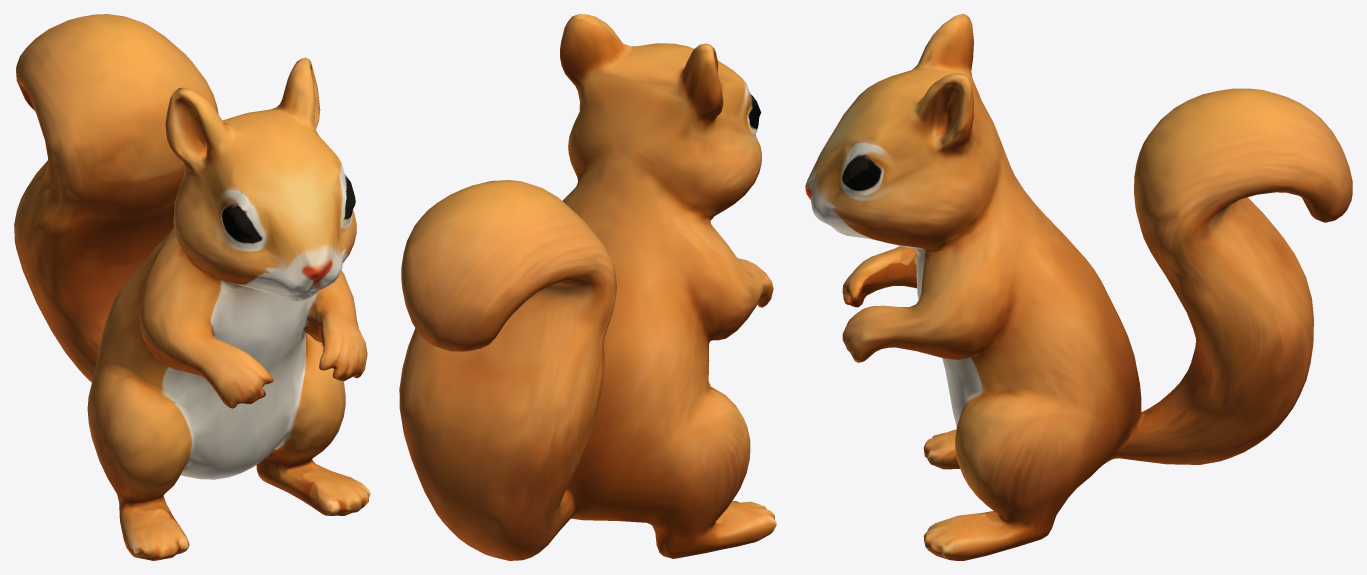
The picture shows the model from 3 angles, left to right: view 1: azimuth 30°, elevation 25°; view 2: azimuth 150°, elevation 25°; view 3: azimuth 270°, elevation 25°; orthographic projection. The views are drawn at different scales.
Visible parts, largest first — view 1: model_LOD2; view 2: model_LOD2; view 3: model_LOD2.
Boxes of the visible parts, box(x1,y1,x2,y2) form: model_LOD2: box(14, 14, 370, 560); model_LOD2: box(399, 14, 776, 560); model_LOD2: box(805, 14, 1352, 560).
Size of the model in its own units: 0.9718 by 1.78 by 1.9.
Materials: 1 (1 with a texture image).
